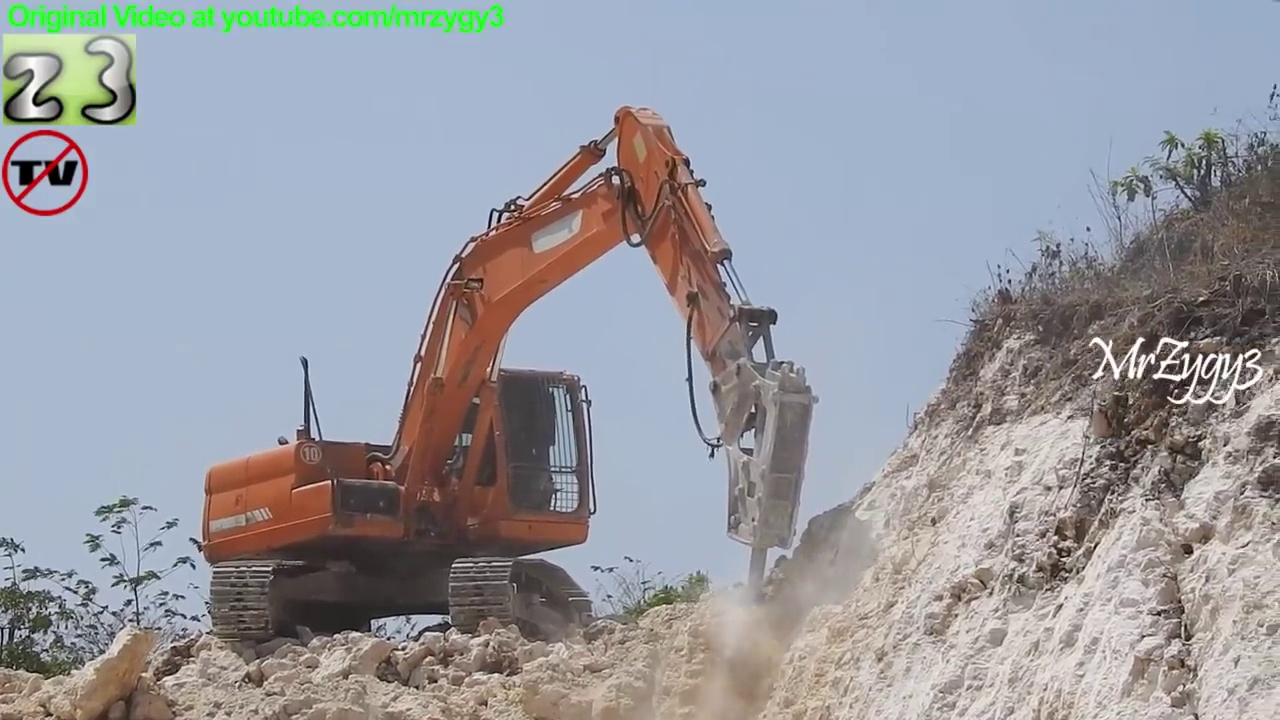excavator breaker: (195, 98, 827, 654)
